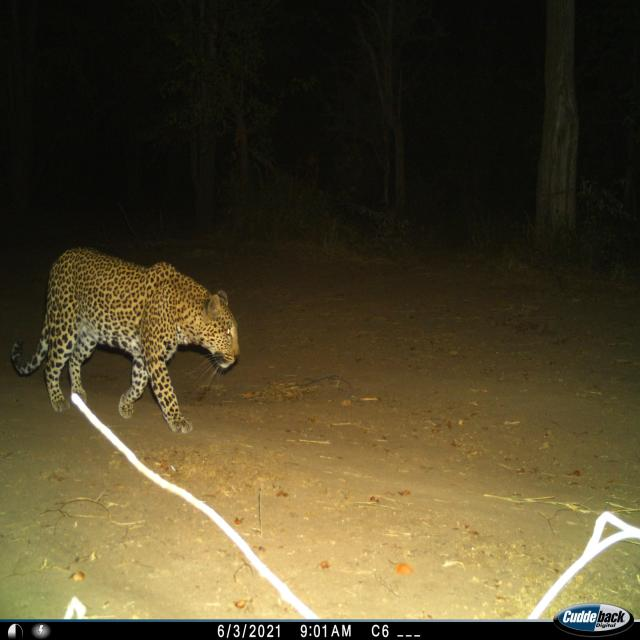Leopard: (18, 251, 242, 447)
